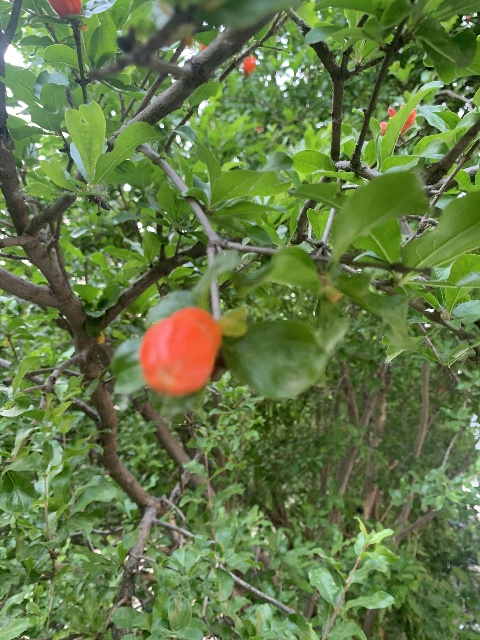bud: (139, 307, 221, 398)
flower: (379, 103, 416, 137), (243, 56, 257, 76)
